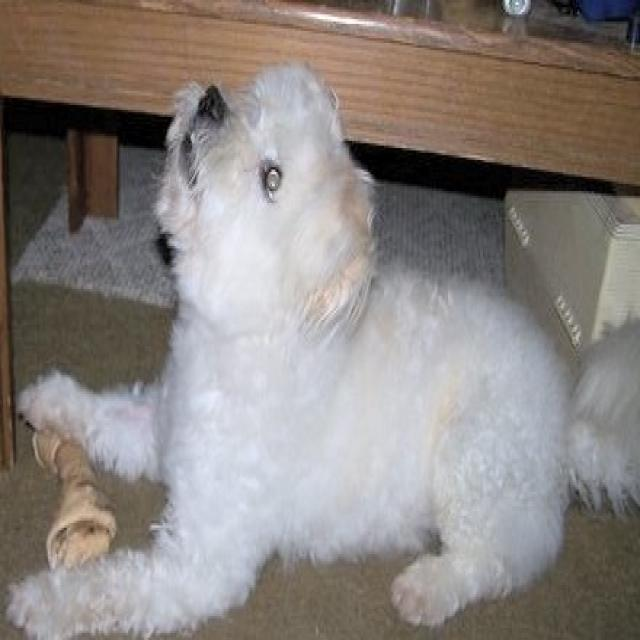dogs: (6, 62, 640, 640)
